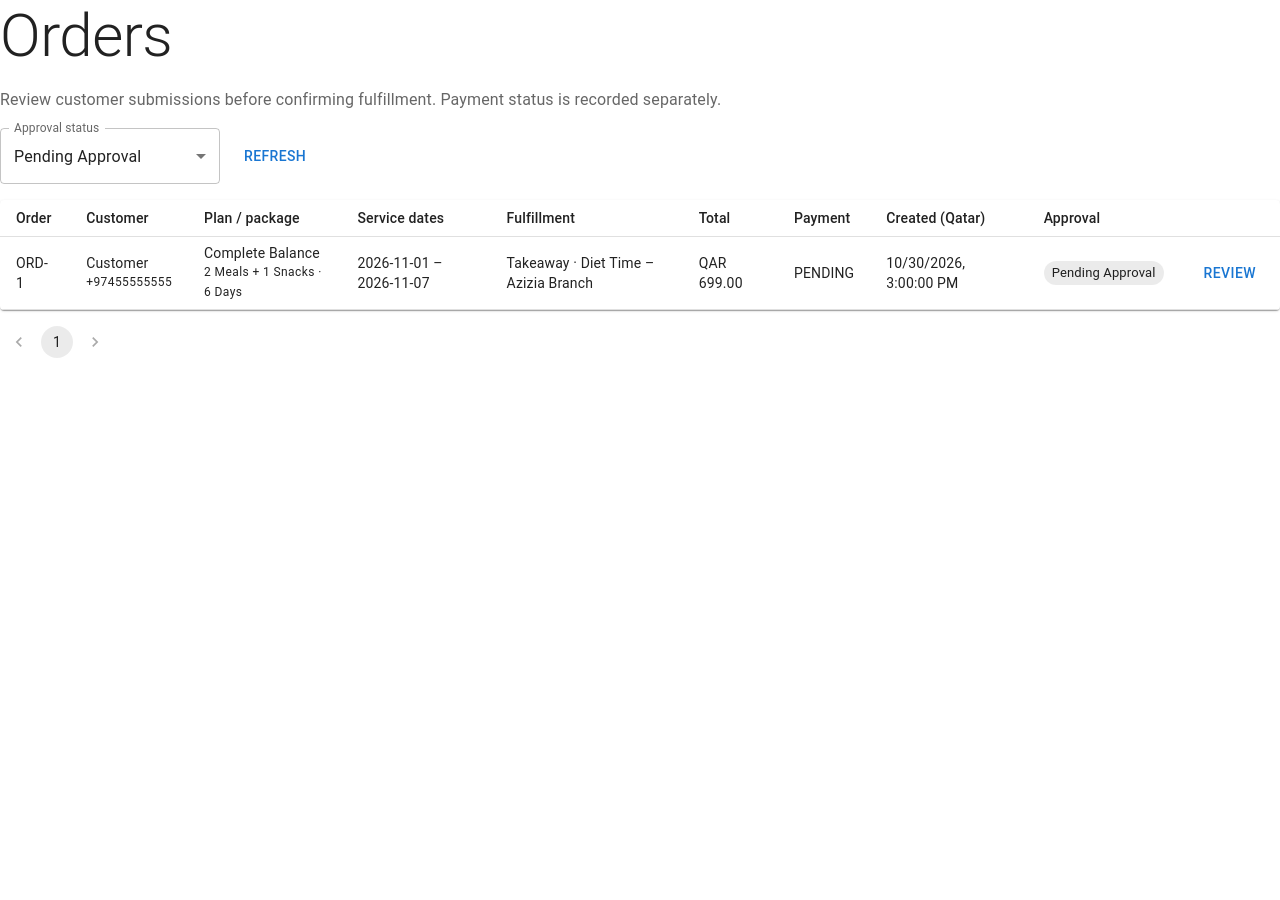
Test: Staff order review › explains why a read-only account cannot confirm orders
Click the button "Review" at (1230, 273), box [1196,255,1264,291]
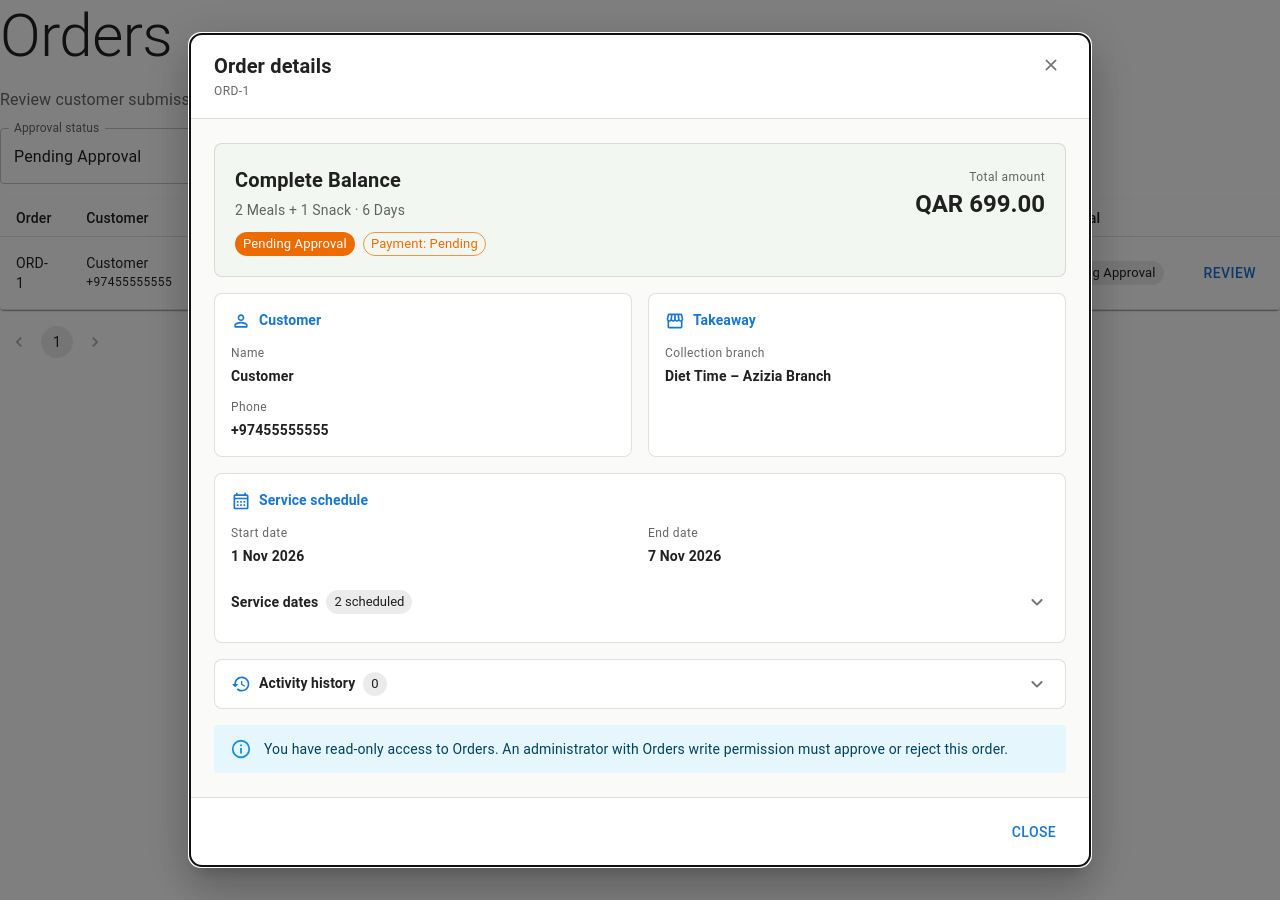
Now the text "You have read-only access to Orders" is shown, box [264,740,1008,756]
